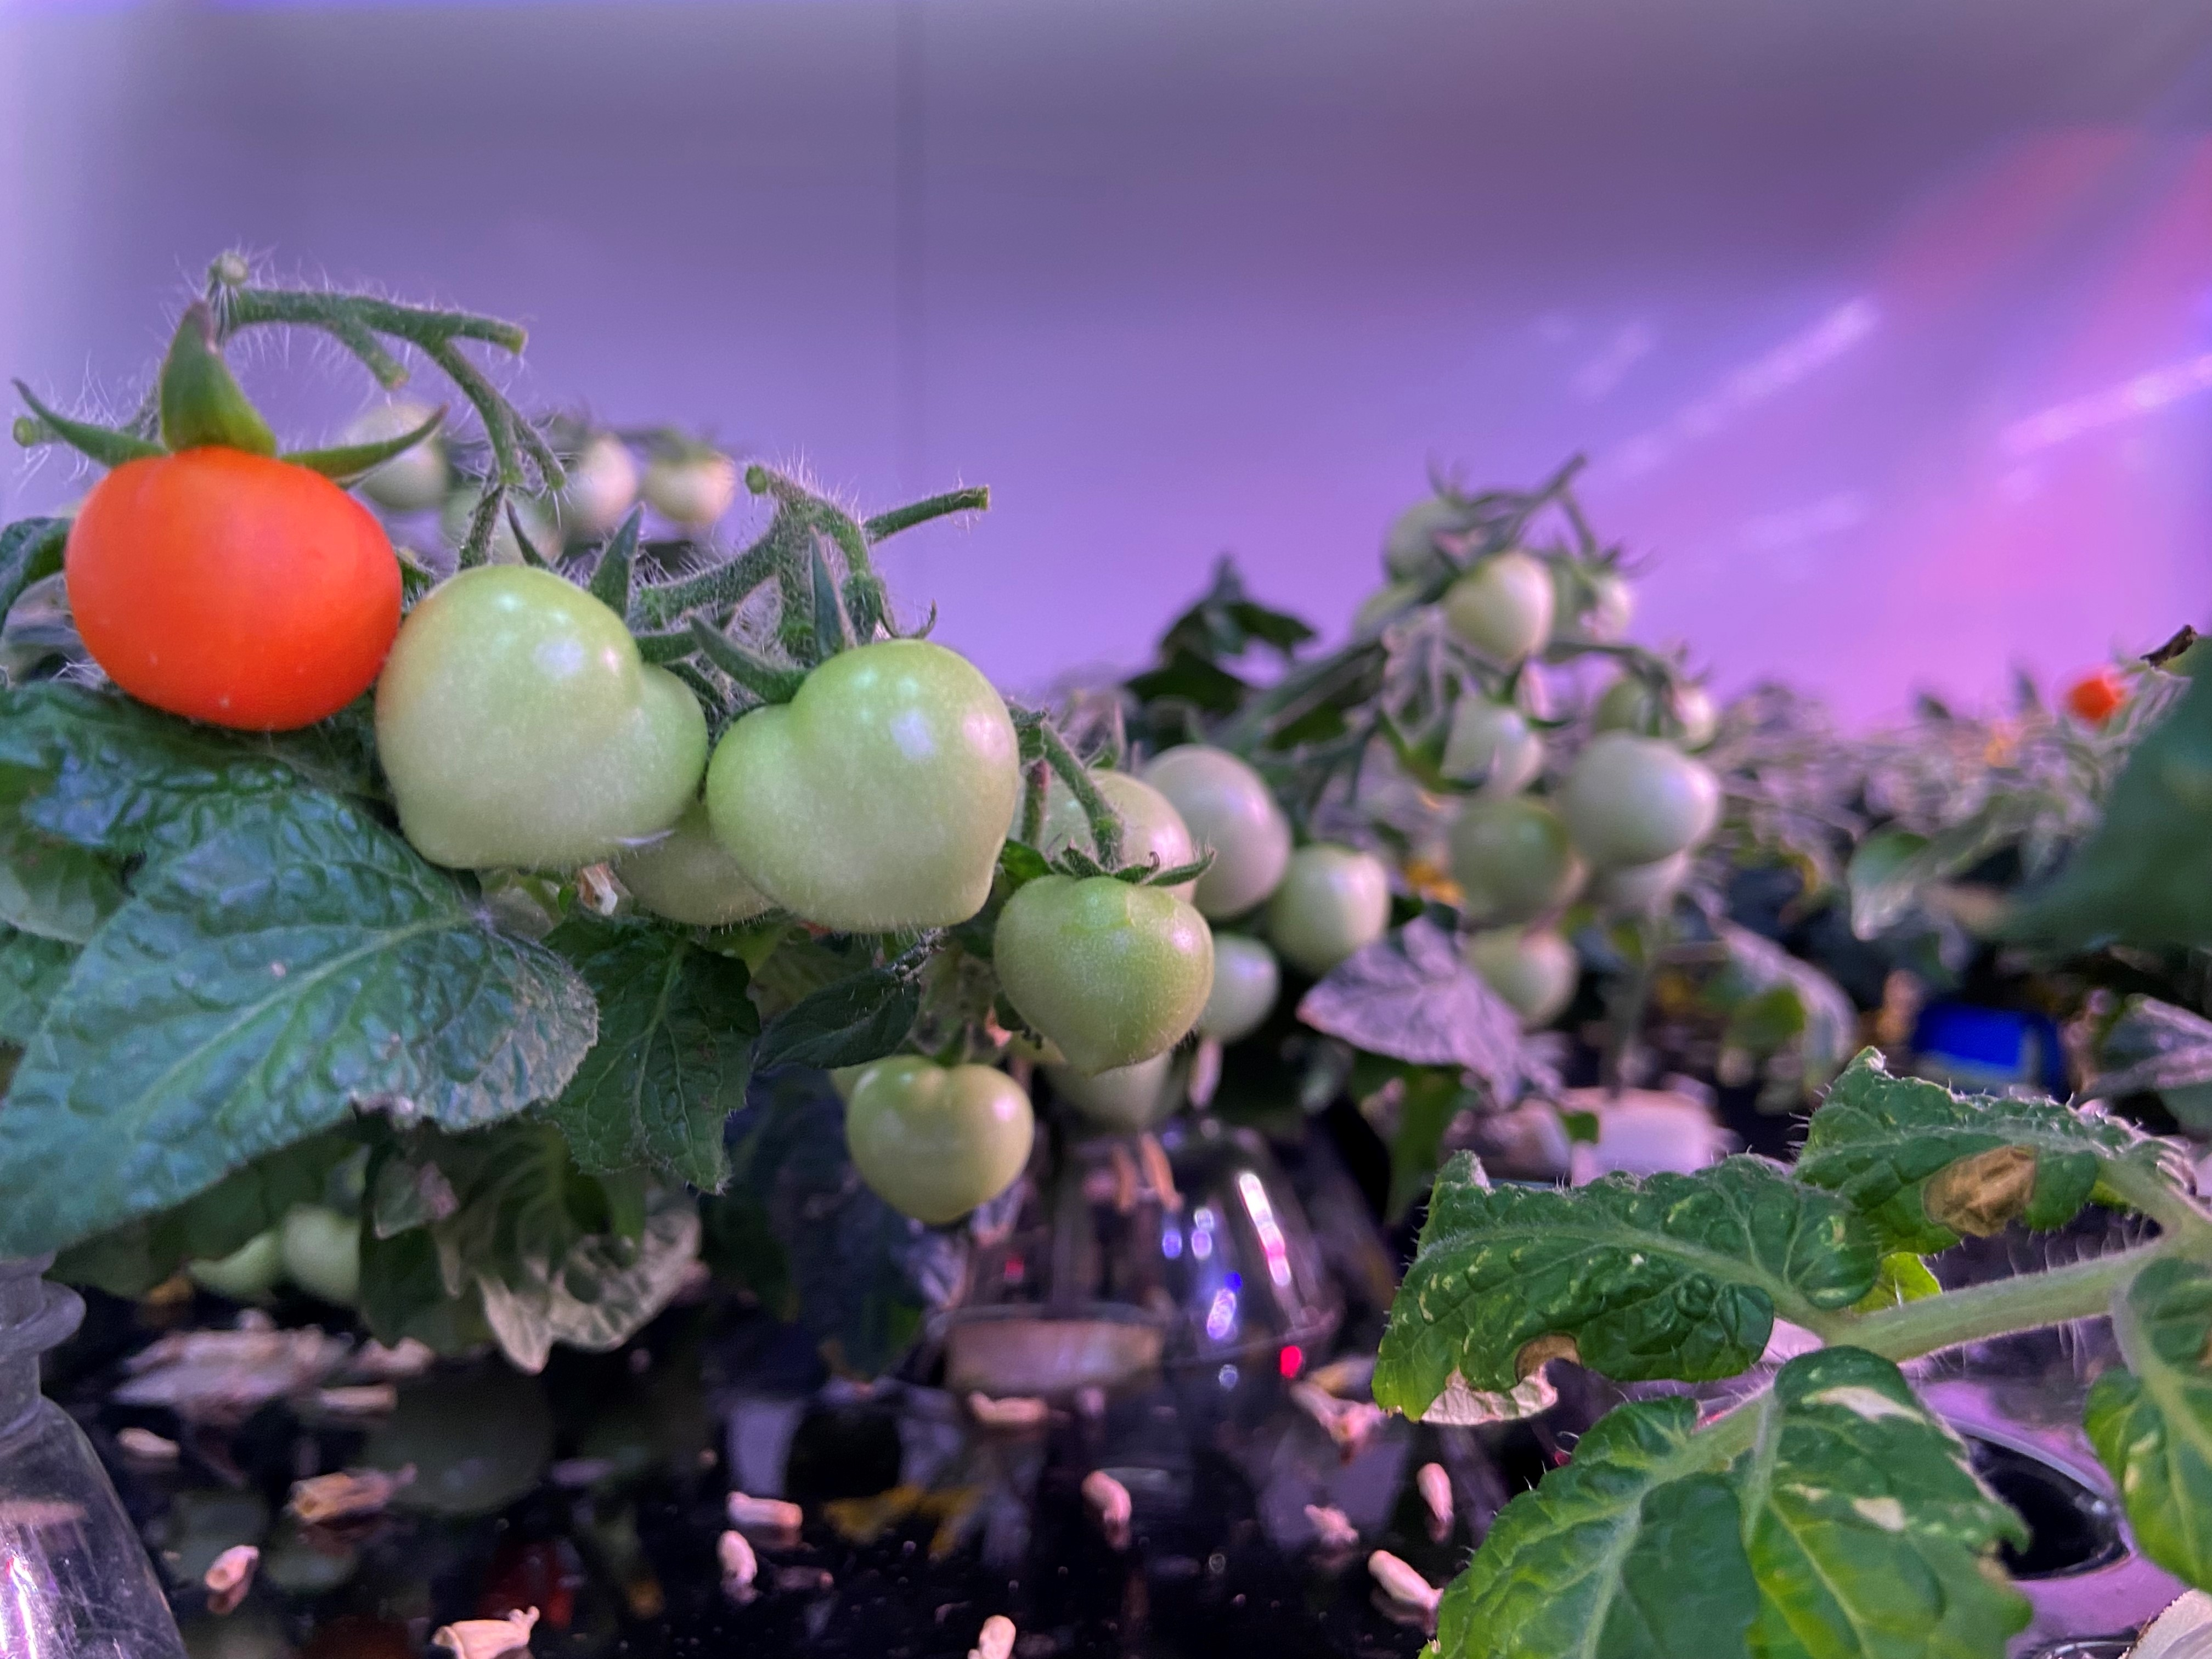green: (368, 561, 681, 870), (714, 638, 1022, 934), (989, 868, 1217, 1070), (841, 1046, 1040, 1227), (1008, 767, 1202, 915), (1129, 748, 1285, 911), (573, 657, 709, 842), (608, 784, 782, 924), (1559, 735, 1714, 866), (1433, 793, 1580, 918), (1258, 836, 1388, 971), (1439, 547, 1554, 666), (528, 427, 639, 540), (1460, 925, 1580, 1026), (1442, 688, 1543, 796), (341, 401, 453, 498), (434, 484, 556, 570), (1193, 927, 1282, 1042), (1374, 483, 1470, 584), (632, 439, 735, 525), (280, 1199, 366, 1298), (190, 1222, 284, 1304)
red: (61, 432, 402, 728), (2060, 667, 2127, 728)
